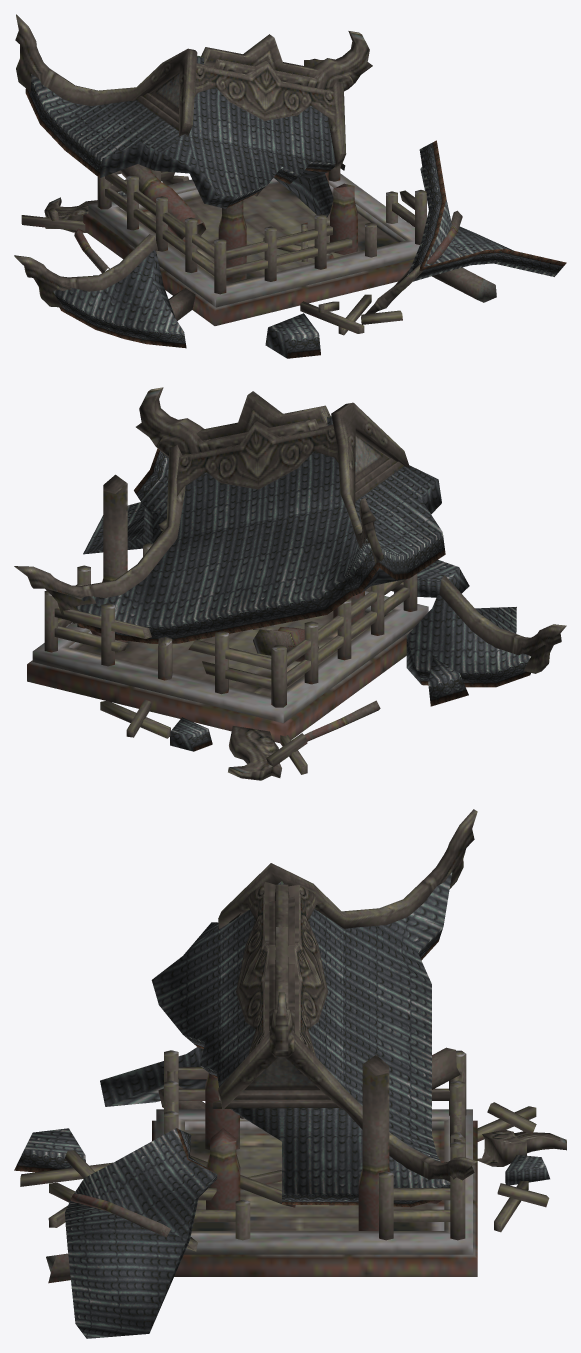
File: Item_4001_zawu_feixu01.FBX
3 views of the same model, one above another, from view 1: azimuth 30°, elevation 25°; view 2: azimuth 150°, elevation 25°; view 3: azimuth 270°, elevation 25° (orthographic). The views are drawn at different scales.
Parts seen in each view (by area): view 1: Item_4001_zawu_feixu01; view 2: Item_4001_zawu_feixu01; view 3: Item_4001_zawu_feixu01.
Boxes of the visible parts, box(x1,y1,x2,y2) form: Item_4001_zawu_feixu01: box(14, 14, 566, 358); Item_4001_zawu_feixu01: box(14, 387, 566, 780); Item_4001_zawu_feixu01: box(14, 809, 566, 1338).
Size of the model in its own units: 1769 by 865 by 1426.
